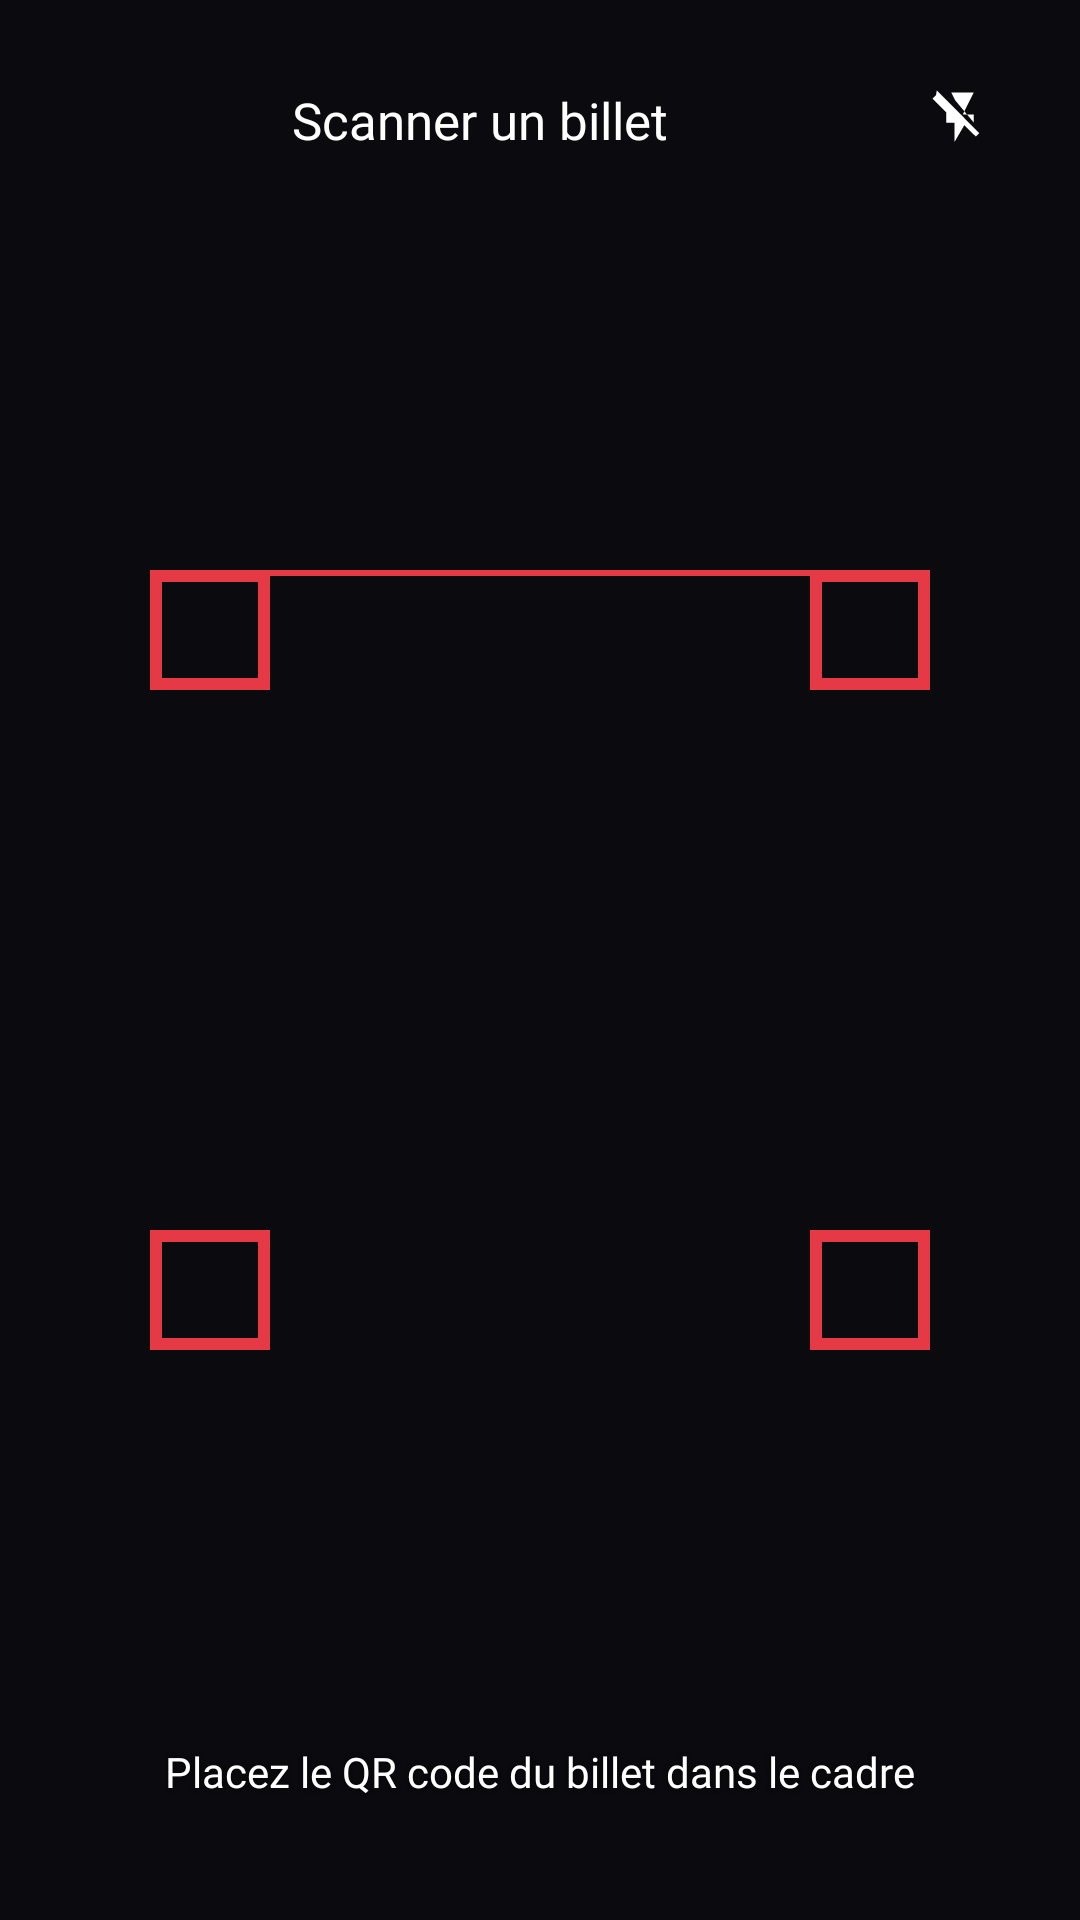

Screen size 1080px x 1920px. Icon name, then its box in pixels as (x1, y1, x2, y2):
flash off: (932, 90, 979, 142)
